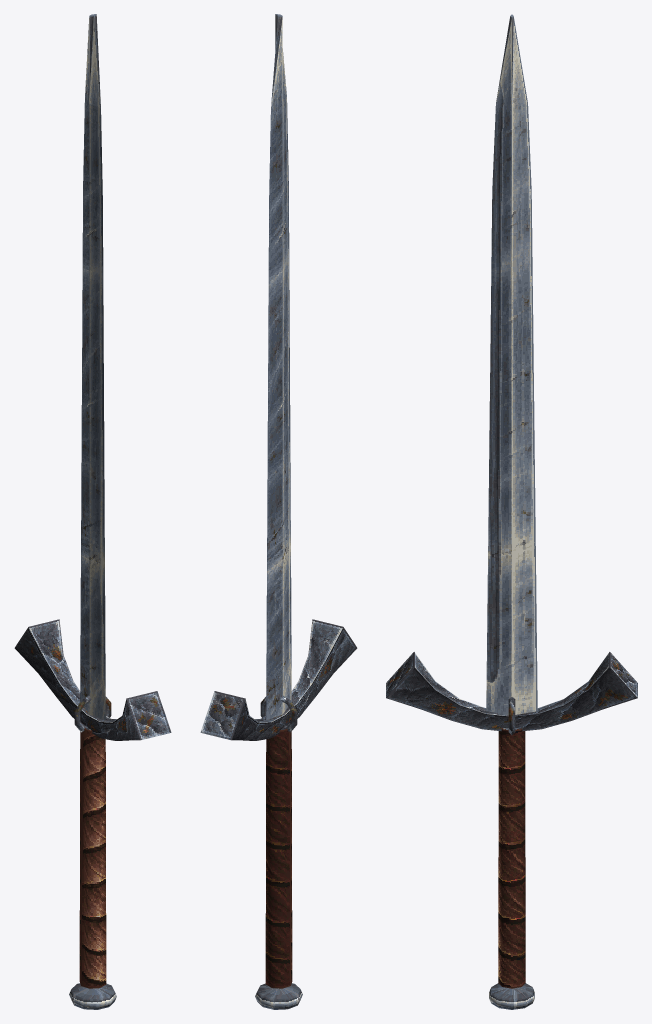
File: claymore.glb
3 renders of one model, left to right at view 1: azimuth 30°, elevation 25°; view 2: azimuth 150°, elevation 25°; view 3: azimuth 270°, elevation 25°, orthographic.
Visible parts, largest first — view 1: claymore; view 2: claymore; view 3: claymore.
Part boxes in pixels (x1,y1,x2,y2): claymore: (14, 14, 171, 1009); claymore: (200, 14, 357, 1009); claymore: (386, 14, 637, 1009).
Size of the model in its own units: 0.056 by 1.27 by 0.2927.
Materials: 1 (1 with a texture image).
